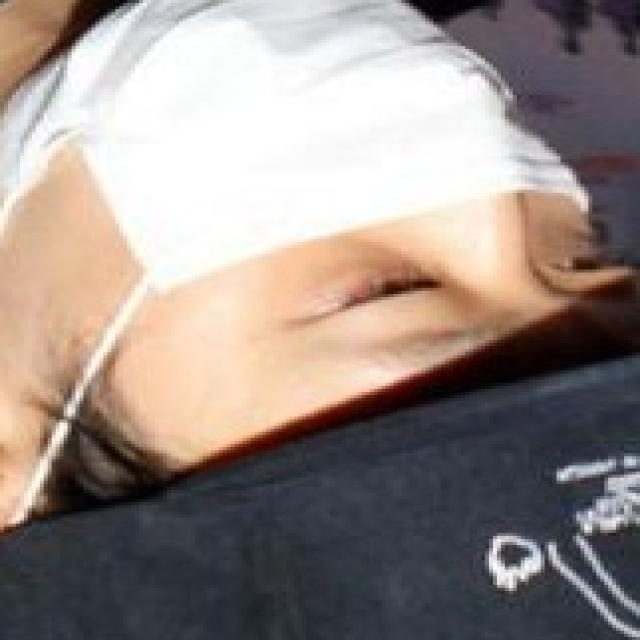Mask: (19, 5, 603, 342)
